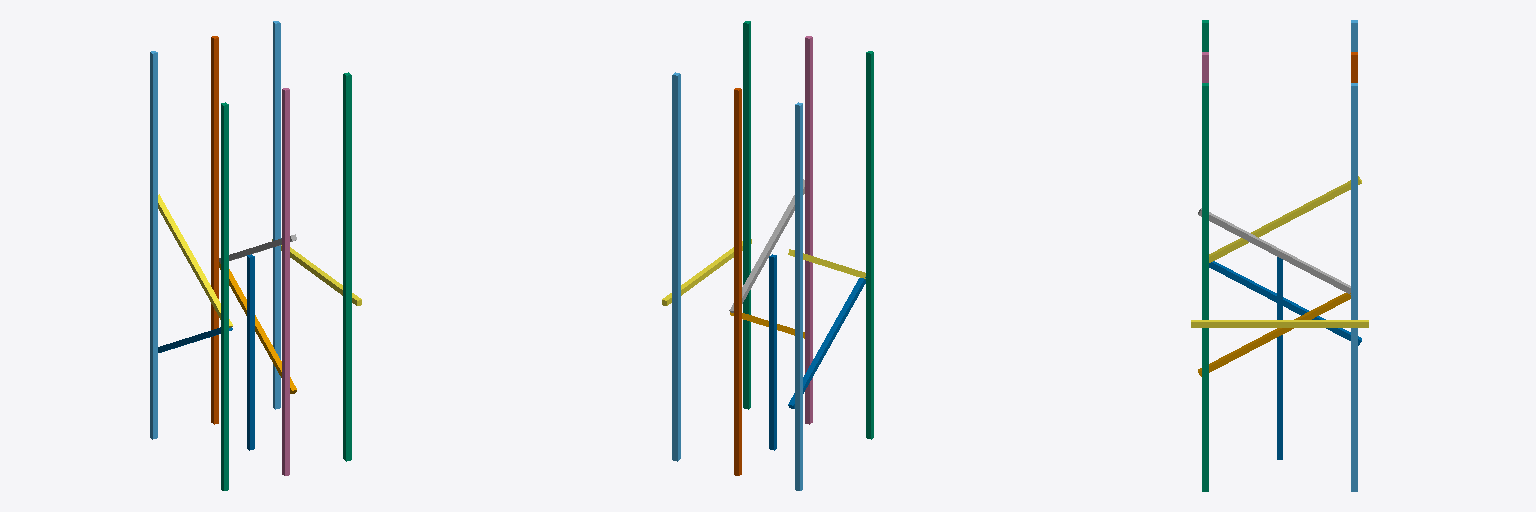
The robot description file, URDF, robot "pipes":
<robot name="pipes">
   <material name="Brown">
     <color rgba="83./255. 53./255. 10./255."/>
   </material>
   <material name="White">
     <color rgba="1 1 1"/>
   </material>
   <material name="Grey">
     <color rgba=".3 .3 .3"/>
   </material>
   <material name="Red">
     <color rgba="1 0 0"/>
   </material>
   <link name="world"/>

   <link name="l1">
    <inertial>
      <mass value=".5" />
      <origin xyz="0 0 1.5" rpy="0 0 0"/>
      <inertia ixx="10"  ixy="0"  ixz="0" iyy="10" iyz="0" izz="1" />
    </inertial>
    <visual>
      <origin xyz="0 0 1.5" rpy="0 0 0" />
      <geometry>
        <box size="0.042 0.042 3"/>
      </geometry>
      <material name="White"/>
    </visual>
    <collision>
      <origin xyz="0 0 1.5" rpy="0 0 0" />
      <geometry>
        <box size="0.042 0.042 3"/>
      </geometry>
    </collision>
   </link>
   <joint name="l1_weld" type="fixed">
    <parent link="world"/>
      <child link="l1"/>
    <origin xyz="-.5 .5 0" rpy="0 0 0" />
   </joint>
   <link name="l2">
    <inertial>
      <mass value=".5" />
      <origin xyz="0 0 1.5" rpy="0 0 0"/>
      <inertia ixx="10"  ixy="0"  ixz="0" iyy="10" iyz="0" izz="1" />
    </inertial>
    <visual>
      <origin xyz="0 0 1.5" rpy="0 0 0" />
      <geometry>
        <box size="0.042 0.042 3"/>
      </geometry>
      <material name="White"/>
    </visual>
    <collision>
      <origin xyz="0 0 1.5" rpy="0 0 0" />
      <geometry>
        <box size="0.042 0.042 3"/>
      </geometry>
    </collision>
   </link>
   <joint name="l2_weld" type="fixed">
    <parent link="world"/>
      <child link="l2"/>
    <origin xyz="-.5 -.5 0" rpy="0 0 0" />
   </joint>
   <link name="s1">
    <inertial>
      <mass value=".5" />
      <origin xyz="0 0 .6" rpy="0 0 0"/>
      <inertia ixx="5"  ixy="0"  ixz="0" iyy="5" iyz="0" izz="1" />
    </inertial>
    <visual>
      <origin xyz="0 0 0.6" rpy="0 0 0" />
      <geometry>
        <box size="0.042 0.042 1.2"/>
      </geometry>
      <material name="White"/>
    </visual>
    <collision>
      <origin xyz="0 0 0.6" rpy="0 0 0" />
      <geometry>
        <box size="0.042 0.042 1.2"/>
      </geometry>
    </collision>
   </link>
   <joint name="s1_weld" type="fixed">
    <parent link="l2"/>
      <child link="s1"/>
    <origin xyz="0.042 0 1.25" rpy="-1.047197551196598 0 0" />
   </joint>
   <link name="s2">
    <inertial>
      <mass value=".5" />
      <origin xyz="0 0 .6" rpy="0 0 0"/>
      <inertia ixx="5"  ixy="0"  ixz="0" iyy="5" iyz="0" izz="1" />
    </inertial>
    <visual>
      <origin xyz="0 0 0.6" rpy="0 0 0" />
      <geometry>
        <box size="0.042 0.042 1.2"/>
      </geometry>
      <material name="White"/>
    </visual>
    <collision>
      <origin xyz="0 0 0.6" rpy="0 0 0" />
      <geometry>
        <box size="0.042 0.042 1.2"/>
      </geometry>
    </collision>
   </link>
   <joint name="s2_weld" type="fixed">
    <parent link="l2"/>
      <child link="s2"/>
    <origin xyz="0.042 0 1.25" rpy="-2.094395102393196 0 0" />
   </joint>

   <link name="l3">
    <inertial>
      <mass value=".5" />
      <origin xyz="0 0 1.5" rpy="0 0 0"/>
      <inertia ixx="10"  ixy="0"  ixz="0" iyy="10" iyz="0" izz="1" />
    </inertial>
    <visual>
      <origin xyz="0 0 1.5" rpy="0 0 0" />
      <geometry>
        <box size="0.042 0.042 3"/>
      </geometry>
      <material name="White"/>
    </visual>
    <collision>
      <origin xyz="0 0 1.5" rpy="0 0 0" />
      <geometry>
        <box size="0.042 0.042 3"/>
      </geometry>
    </collision>
   </link>
   <joint name="l3_weld" type="fixed">
    <parent link="world"/>
      <child link="l3"/>
    <origin xyz="0 .5 0" rpy="0 0 0" />
   </joint>
   <link name="l4">
    <inertial>
      <mass value=".5" />
      <origin xyz="0 0 1.5" rpy="0 0 0"/>
      <inertia ixx="10"  ixy="0"  ixz="0" iyy="10" iyz="0" izz="1" />
    </inertial>
    <visual>
      <origin xyz="0 0 1.5" rpy="0 0 0" />
      <geometry>
        <box size="0.042 0.042 3"/>
      </geometry>
      <material name="White"/>
    </visual>
    <collision>
      <origin xyz="0 0 1.5" rpy="0 0 0" />
      <geometry>
        <box size="0.042 0.042 3"/>
      </geometry>
    </collision>
   </link>
   <joint name="l4_weld" type="fixed">
    <parent link="world"/>
      <child link="l4"/>
    <origin xyz="0 -.5 0" rpy="0 0 0" />
   </joint>
  <link name="s3">
    <inertial>
      <mass value=".5" />
      <origin xyz="0 0 .6" rpy="0 0 0"/>
      <inertia ixx="5"  ixy="0"  ixz="0" iyy="5" iyz="0" izz="1" />
    </inertial>
    <visual>
      <origin xyz="0 0 0.6" rpy="0 0 0" />
      <geometry>
        <box size="0.042 0.042 1.2"/>
      </geometry>
      <material name="White"/>
    </visual>
    <collision>
      <origin xyz="0 0 0.6" rpy="0 0 0" />
      <geometry>
        <box size="0.042 0.042 1.2"/>
      </geometry>
    </collision>
   </link>
   <joint name="s3_weld" type="fixed">
    <parent link="l3"/>
      <child link="s3"/>
    <origin xyz="0.042 0 1.25" rpy="1.047197551196598 0 0" />
   </joint>
  <link name="s4">
    <inertial>
      <mass value=".5" />
      <origin xyz="0 0 .6" rpy="0 0 0"/>
      <inertia ixx="5"  ixy="0"  ixz="0" iyy="5" iyz="0" izz="1" />
    </inertial>
    <visual>
      <origin xyz="0 0 0.6" rpy="0 0 0" />
      <geometry>
        <box size="0.042 0.042 1.2"/>
      </geometry>
      <material name="White"/>
    </visual>
    <collision>
      <origin xyz="0 0 0.6" rpy="0 0 0" />
      <geometry>
        <box size="0.042 0.042 1.2"/>
      </geometry>
    </collision>
   </link>
   <joint name="s4_weld" type="fixed">
    <parent link="l3"/>
      <child link="s4"/>
    <origin xyz="0.042 0 1.25" rpy="2.094395102393196 0 0" />
   </joint>

   <link name="l5">
    <inertial>
      <mass value=".5" />
      <origin xyz="0 0 1.5" rpy="0 0 0"/>
      <inertia ixx="10"  ixy="0"  ixz="0" iyy="10" iyz="0" izz="1" />
    </inertial>
    <visual>
      <origin xyz="0 0 1.5" rpy="0 0 0" />
      <geometry>
        <box size="0.042 0.042 3"/>
      </geometry>
      <material name="White"/>
    </visual>
    <collision>
      <origin xyz="0 0 1.5" rpy="0 0 0" />
      <geometry>
        <box size="0.042 0.042 3"/>
      </geometry>
    </collision>
   </link>
   <joint name="l5_weld" type="fixed">
    <parent link="world"/>
      <child link="l5"/>
    <origin xyz=".5 .5 0" rpy="0 0 0" />
   </joint>
   <link name="l6">
    <inertial>
      <mass value=".5" />
      <origin xyz="0 0 1.5" rpy="0 0 0"/>
      <inertia ixx="10"  ixy="0"  ixz="0" iyy="10" iyz="0" izz="1" />
    </inertial>
    <visual>
      <origin xyz="0 0 1.5" rpy="0 0 0" />
      <geometry>
        <box size="0.042 0.042 3"/>
      </geometry>
      <material name="White"/>
    </visual>
    <collision>
      <origin xyz="0 0 1.5" rpy="0 0 0" />
      <geometry>
        <box size="0.042 0.042 3"/>
      </geometry>
    </collision>
   </link>
   <joint name="l6_weld" type="fixed">
    <parent link="world"/>
      <child link="l6"/>
    <origin xyz=".5 -.5 0" rpy="0 0 0" />
   </joint>
  <link name="s5">
    <inertial>
      <mass value=".5" />
      <origin xyz="0 0 0.6" rpy="0 0 0"/>
      <inertia ixx="5"  ixy="0"  ixz="0" iyy="5" iyz="0" izz="1" />
    </inertial>
    <visual>
      <origin xyz="0 0 .6" rpy="0 0 0" />
      <geometry>
        <box size="0.042 0.042 1.2"/>
      </geometry>
      <material name="White"/>
    </visual>
    <collision>
      <origin xyz="0 0 .6" rpy="0 0 0" />
      <geometry>
        <box size="0.042 0.042 1.2"/>
      </geometry>
    </collision>
   </link>
   <joint name="s5_weld" type="fixed">
    <parent link="l5"/>
      <child link="s5"/>
    <origin xyz="0.042 .1 1.25" rpy="1.570796326794897 0 0" />
   </joint>

   <link name="m1">
    <inertial>
      <mass value=".5" />
      <origin xyz="0 0 .75" rpy="0 0 0"/>
      <inertia ixx="10"  ixy="0"  ixz="0" iyy="10" iyz="0" izz="1" />
    </inertial>
    <visual>
      <origin xyz="0 0 .75" rpy="0 0 0" />
      <geometry>
        <box size="0.042 0.042 1.5"/>
      </geometry>
      <material name="White"/>
    </visual>
    <collision>
      <origin xyz="0 0 .75" rpy="0 0 0" />
      <geometry>
        <box size="0.042 0.042 1.5"/>
      </geometry>
    </collision>
   </link>
   <joint name="m1_weld" type="fixed">
    <parent link="world"/>
      <child link="m1"/>
    <origin xyz="0 0 0" rpy="0 0 0" />
   </joint>

</robot>

--- Render facts (derived) ---
Views: 3 orthographic renders of the robot side by side, from view 1: azimuth 30°, elevation 25°; view 2: azimuth 150°, elevation 25°; view 3: azimuth 270°, elevation 25°.
Model pipes with 13 links and 12 joints (12 fixed), rooted at world, posed every joint at zero.
Visible links, largest first — view 1: l6, l2, l1, l4, l5, l3, m1, s1, s4, s5; view 2: l5, l1, l2, l3, l4, l6, m1, s2, s3, s5; view 3: l5, l6, s5, s3, s1, s4, m1, s2.
Link boxes in pixels (<box>): l6: <box>343,72,351,461</box>; l2: <box>221,102,228,490</box>; l1: <box>150,51,157,439</box>; l4: <box>282,88,289,475</box>; l5: <box>273,21,280,409</box>; l3: <box>211,36,218,424</box>; m1: <box>247,254,254,450</box>; s1: <box>158,194,232,327</box>; s4: <box>219,262,296,393</box>; s5: <box>272,239,361,305</box>; l5: <box>672,72,680,461</box>; l1: <box>795,102,802,490</box>; l2: <box>866,51,873,439</box>; l3: <box>734,88,741,475</box>; l4: <box>805,36,812,424</box>; l6: <box>743,21,750,409</box>; m1: <box>769,254,776,450</box>; s2: <box>788,277,865,408</box>; s3: <box>729,179,804,312</box>; s5: <box>662,239,751,305</box>; l5: <box>1351,83,1357,491</box>; l6: <box>1202,83,1208,491</box>; s5: <box>1191,320,1368,327</box>; s3: <box>1198,208,1350,294</box>; s1: <box>1209,176,1361,262</box>; s4: <box>1198,293,1350,376</box>; m1: <box>1277,257,1282,459</box>; s2: <box>1209,261,1361,345</box>.
Size in the robot's own frame: 1.08 by 1.2 by 3 metres.
Geometry: primitives only (box / cylinder / sphere), no mesh files.
